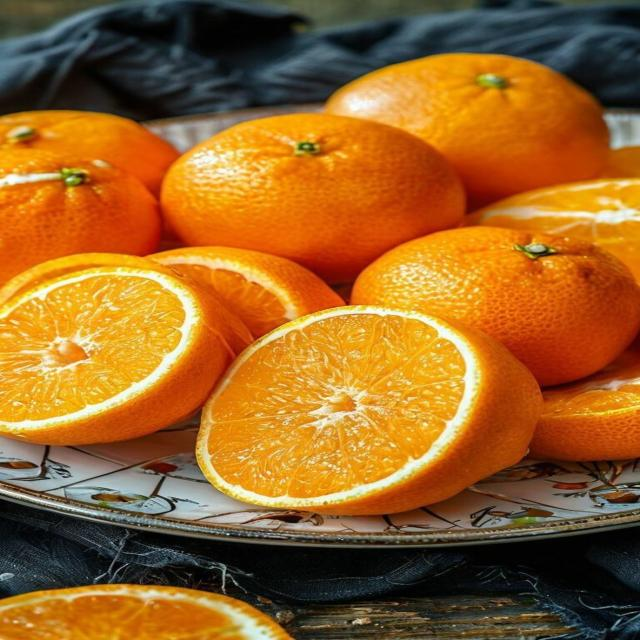orange: (197, 307, 541, 514), (162, 114, 464, 282), (352, 227, 639, 385), (327, 54, 608, 206), (0, 267, 233, 444), (0, 149, 160, 284), (148, 247, 344, 337), (465, 179, 639, 279), (0, 585, 292, 639), (0, 111, 179, 194), (531, 342, 639, 460), (0, 253, 179, 304), (0, 253, 157, 304), (602, 147, 639, 177)
